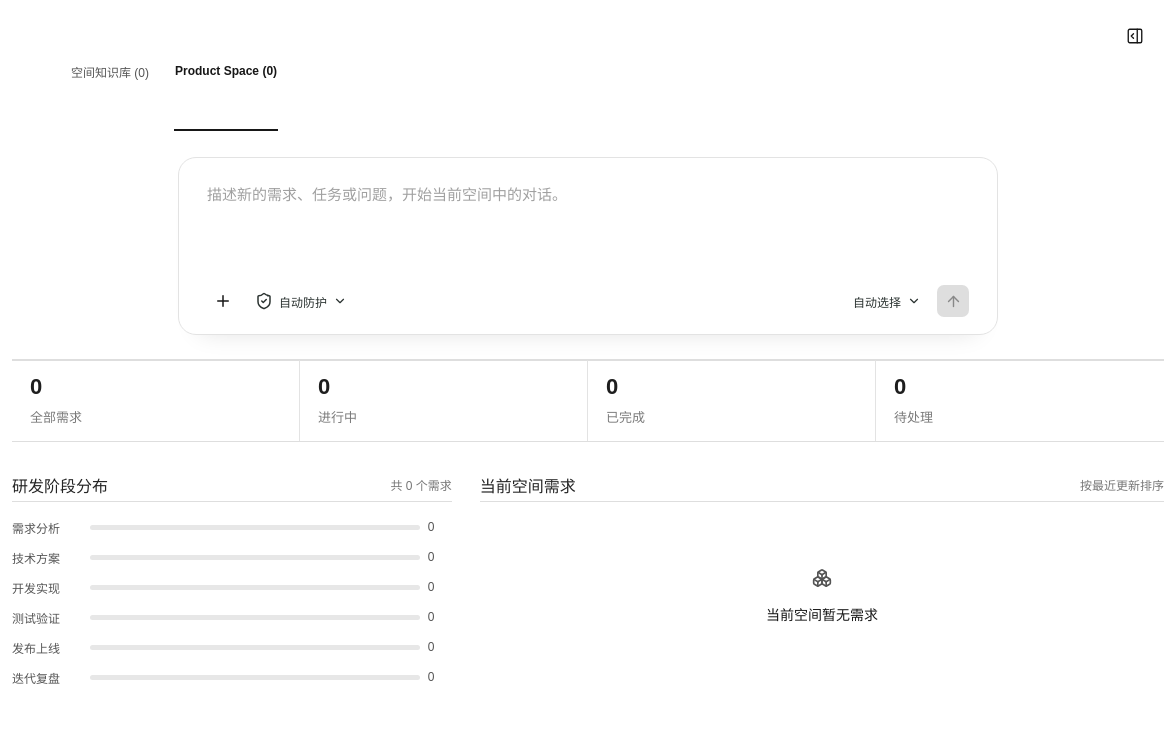
Test: SpaceDetailPage › returns to the combined overview from the space name tab
Click the tab "空间知识库 (0)" at (110, 72), box [70,12,150,132]
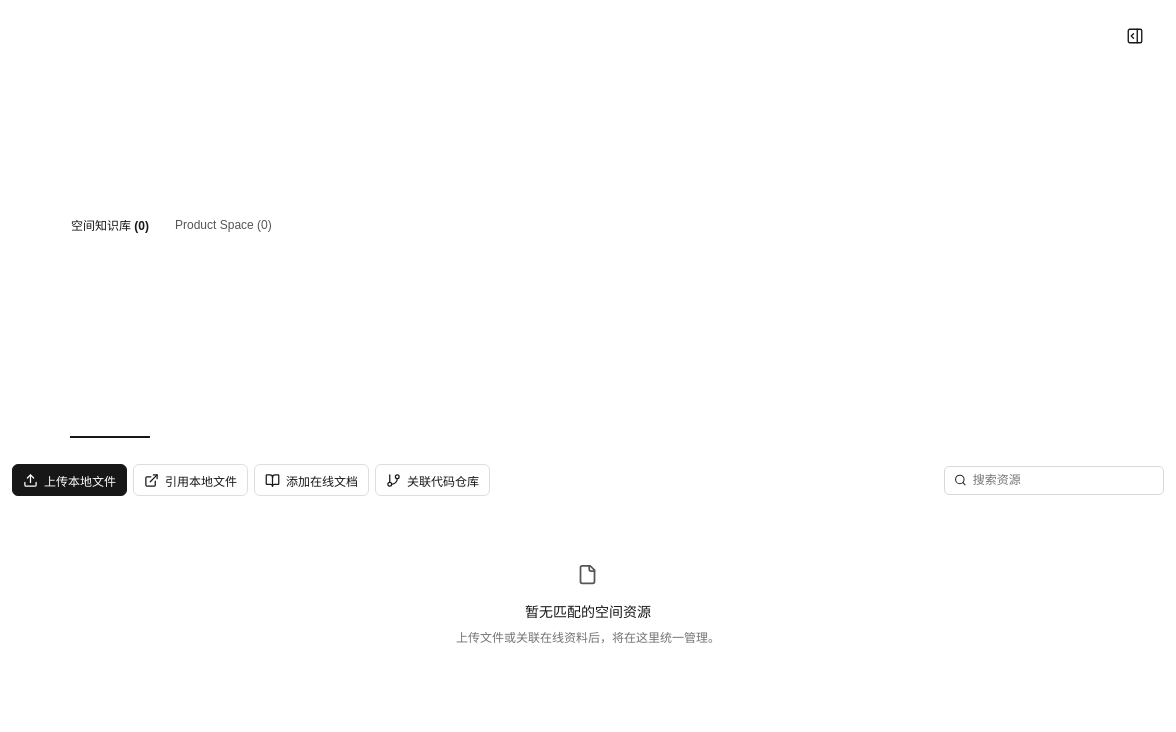
Now the text box labelled "空间对话内容" is gone
Click the tab "Product Space (0)" at (223, 226), box [174,12,273,439]
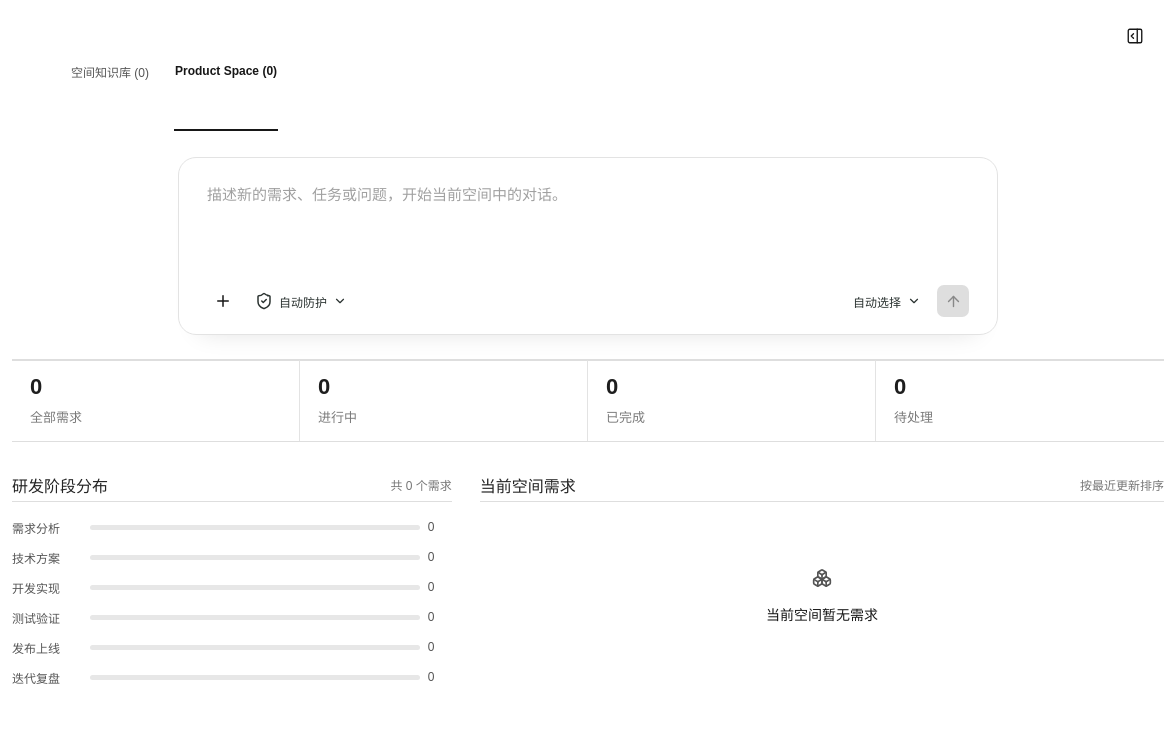
Now the text box named "空间对话内容" is shown, box [207,183,969,281]
Now the element named "需求统计" is shown, box [12,359,1164,692]
